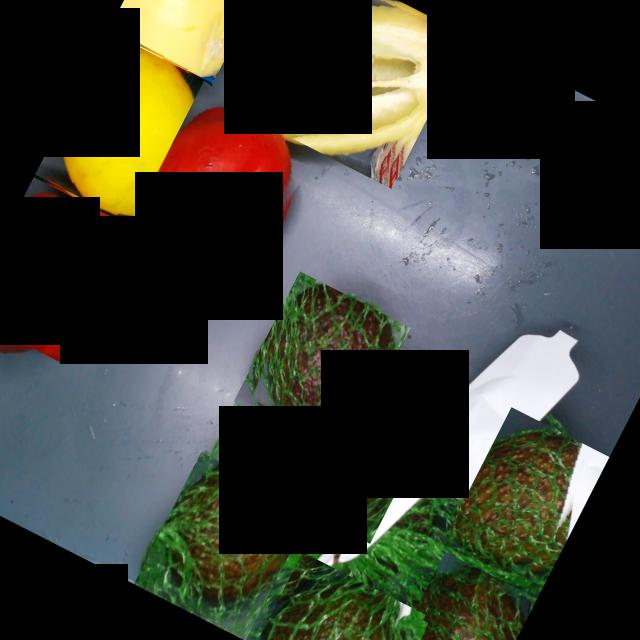avocado: (133, 452, 312, 640), (234, 272, 411, 458), (445, 408, 609, 588), (309, 409, 423, 544), (255, 552, 425, 640), (377, 552, 537, 640)
butter: (160, 0, 333, 58)
cheese: (107, 0, 263, 86)
lemon: (35, 32, 204, 224)
pepper: (237, 0, 468, 188)
tomatoes: (124, 94, 320, 300), (0, 177, 132, 364)
